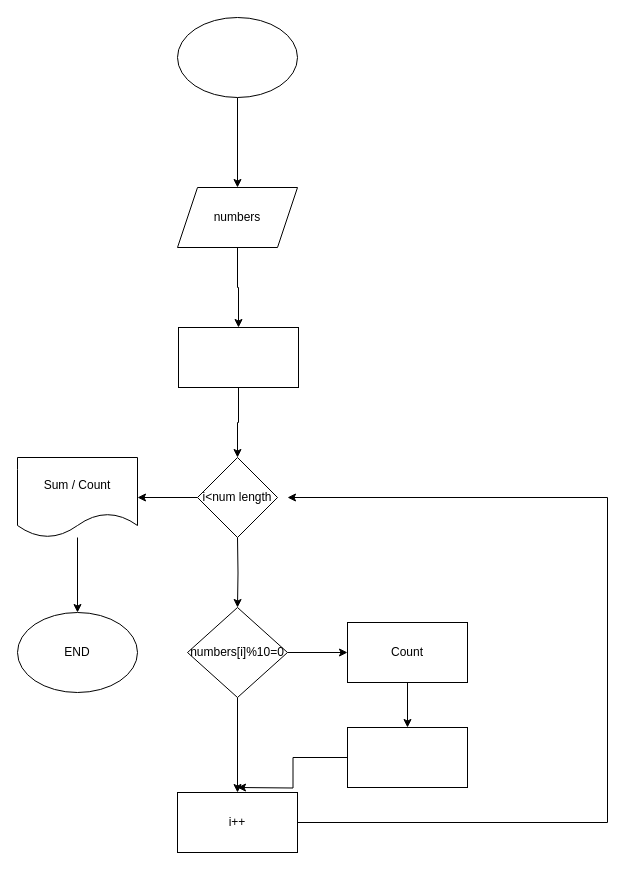
This 633x870 diagram has some shape labels left out. The centre of each missing label's shape, as x and y in pixels:
"i=o Sum=0" goes at (238,357).
"START" goes at (237,57).
"Sum+=numbers[i]" goes at (407,757).
